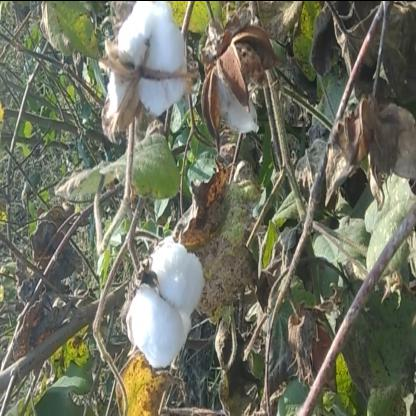cotton_ready: (101, 2, 201, 156), (114, 233, 210, 373)
